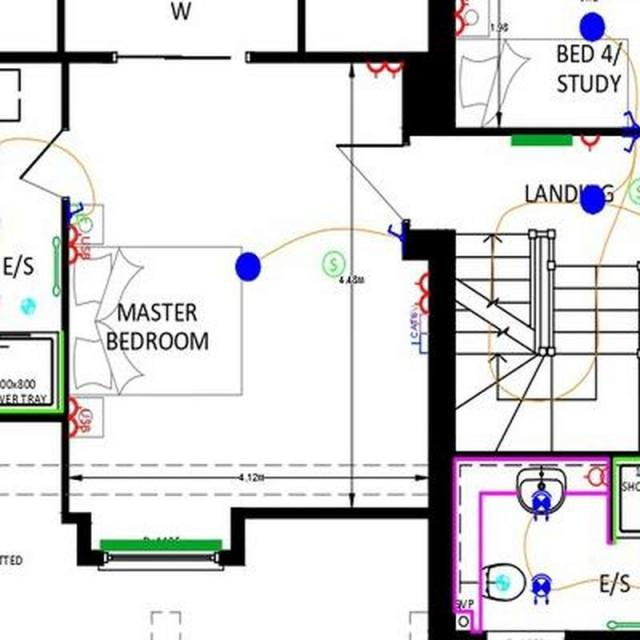Cat 6 Data Socket: (409, 313, 427, 353)
Ceiling Mounted Continuous Extract FanWith Boost Mode Activated By Light Switch: (19, 298, 34, 314), (494, 574, 508, 590)
Co-Ax TV Socket: (409, 305, 428, 332)
Double Socket: (413, 272, 429, 312), (366, 62, 402, 78), (453, 0, 468, 34)
Full Height Tiling: (0, 330, 62, 411), (612, 456, 639, 541)
Light Switch: (386, 224, 401, 242), (623, 110, 639, 126), (622, 136, 638, 152), (68, 202, 83, 219)
Low Energy Downlighter: (531, 491, 551, 522), (531, 573, 551, 604)
Low Energy Pendant Light: (578, 12, 606, 41), (580, 184, 605, 214), (235, 252, 260, 281)
Mains Wired Smoke Detector: (322, 250, 346, 276), (629, 177, 639, 203)
Radiator: (99, 538, 221, 552), (510, 134, 572, 145)
Shaver Socket: (582, 466, 609, 486)
Single Socket: (579, 135, 599, 151)
Telephone Socket: (70, 205, 90, 225)
USB Double Socket: (67, 223, 94, 263), (67, 397, 90, 437)
